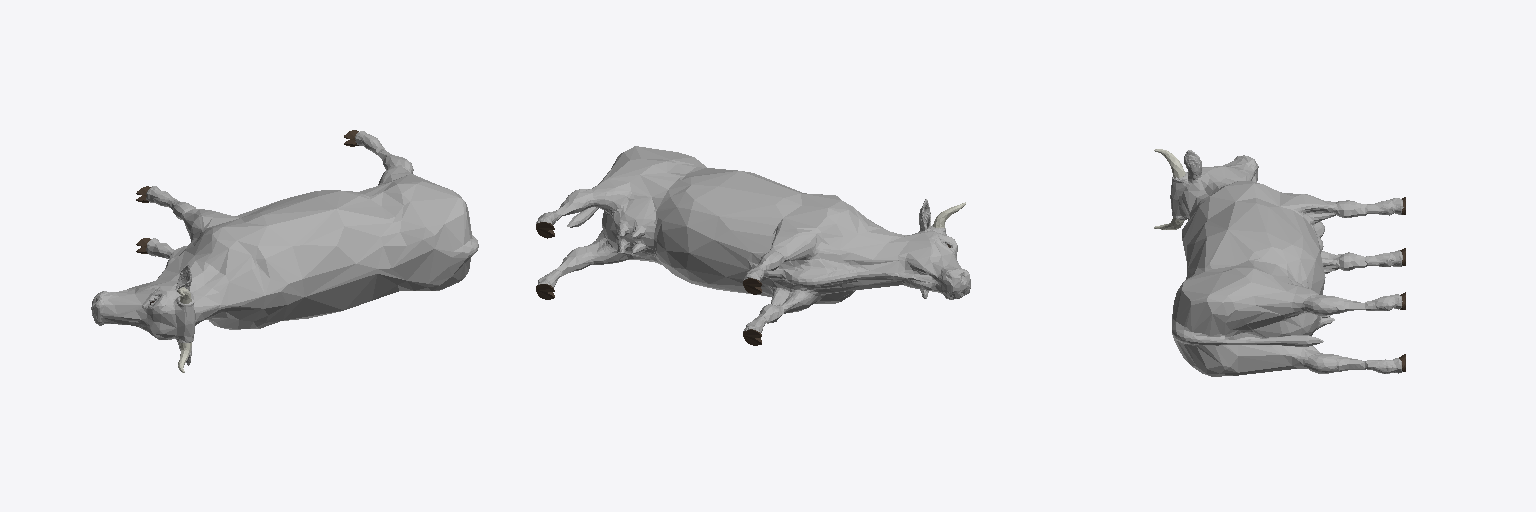
The model's file is cow.obj.
The picture shows the model from 3 angles: view 1: azimuth 30°, elevation 25°; view 2: azimuth 150°, elevation 25°; view 3: azimuth 270°, elevation 25°; orthographic projection.
Visible parts, largest first — view 1: COWBODY; view 2: COWBODY; view 3: COWBODY, COWcuern.
Boxes of the visible parts, <box> form: COWBODY: <box>91,131,478,365</box>; COWBODY: <box>536,146,970,332</box>; COWBODY: <box>1170,150,1403,376</box>; COWcuern: <box>1154,149,1185,229</box>.
Size of the model in its own units: 480 by 133 by 288.